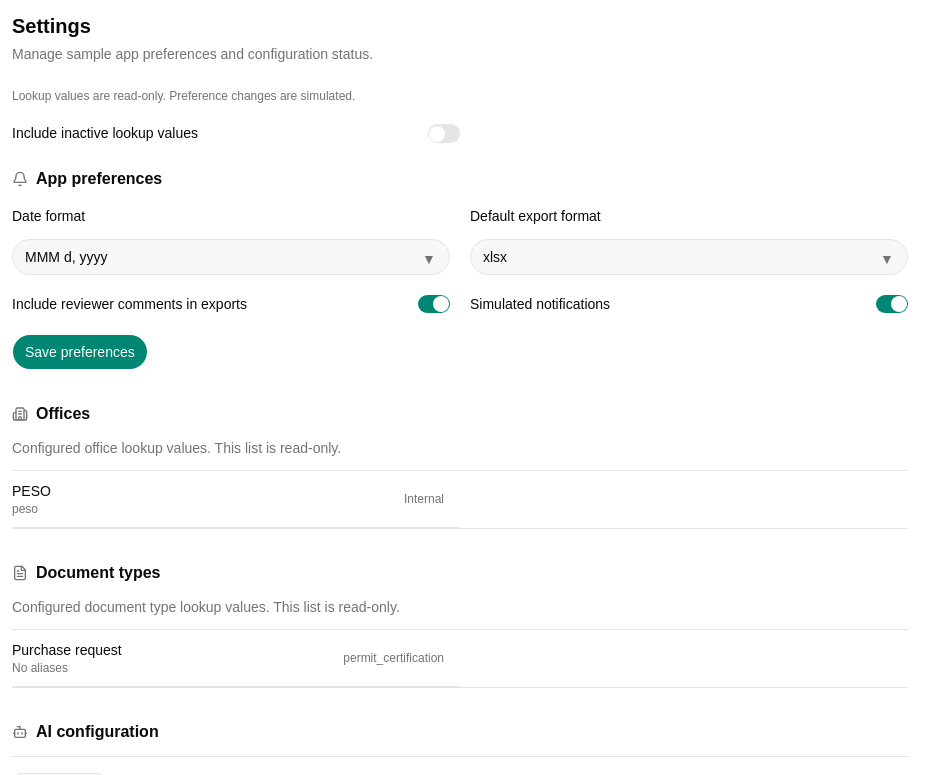
Test: SettingsPage lookup lists › loads inactive records on toggle without reloading preferences
Check: the text "PESO" is shown, box [12,481,51,501]
Click the switch named "include inactive lookup values" in the row of "Include inactive lookup values".
click(444, 134)  # box [428,124,460,143]
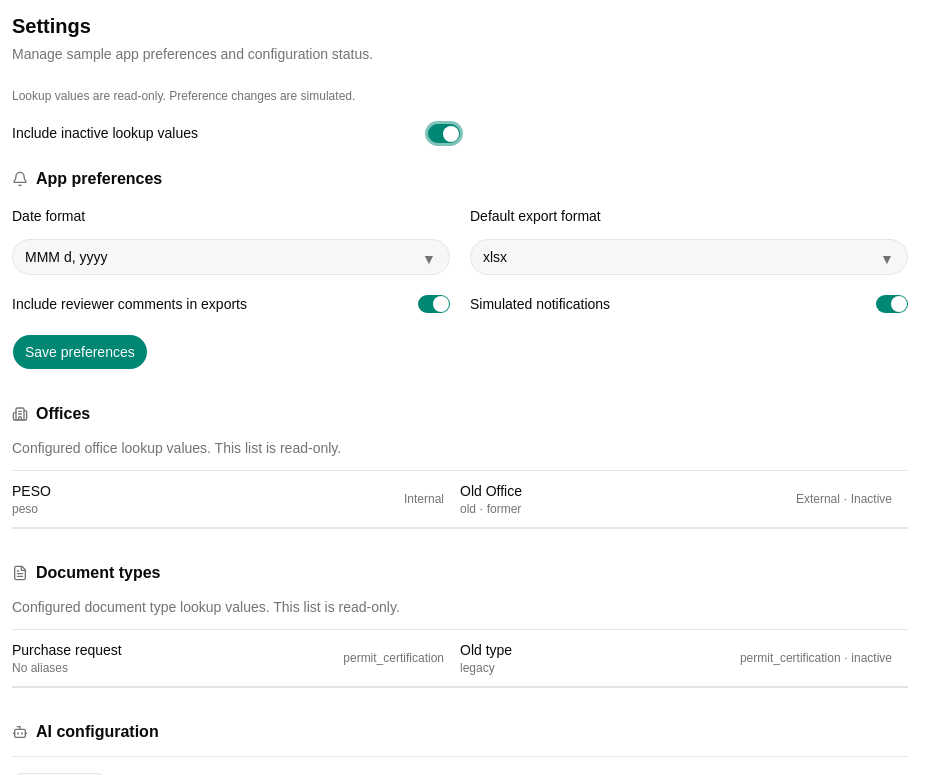
Check: the text "Old Office" is shown, box [460,481,522,501]
Check: the text "old · former" is shown, box [460,501,522,517]
Check: the text "Old type" is shown, box [460,640,512,660]
